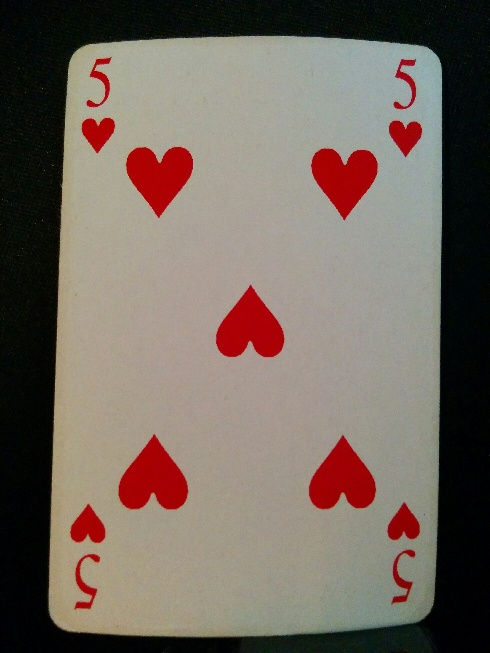H5: (67, 499, 108, 616), (386, 50, 427, 160), (76, 55, 120, 157), (383, 495, 421, 608)
